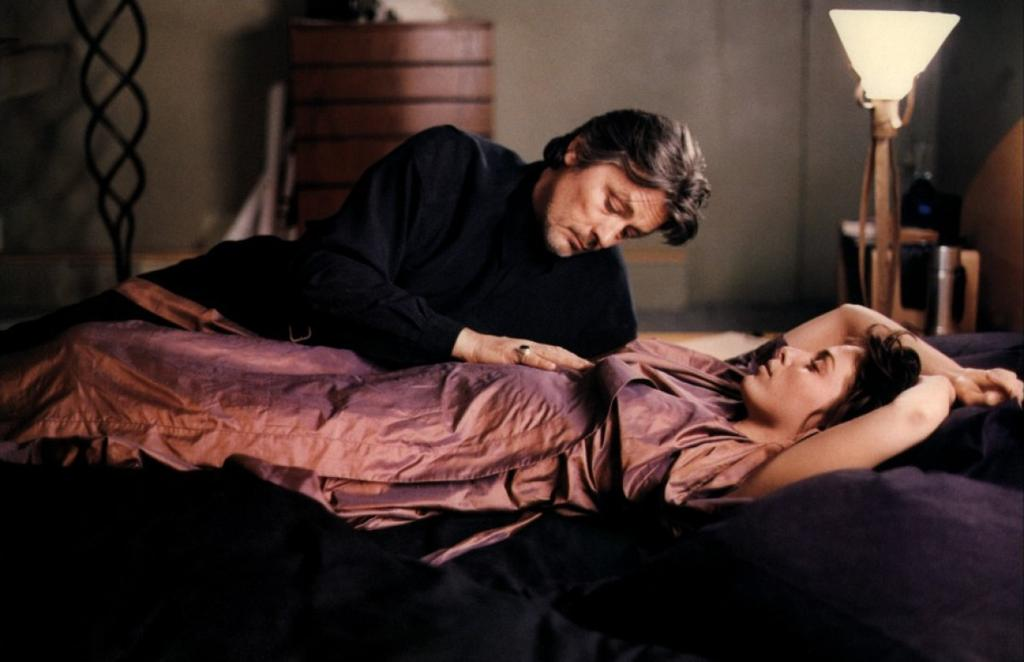face: (538, 158, 682, 262), (734, 340, 868, 412)
